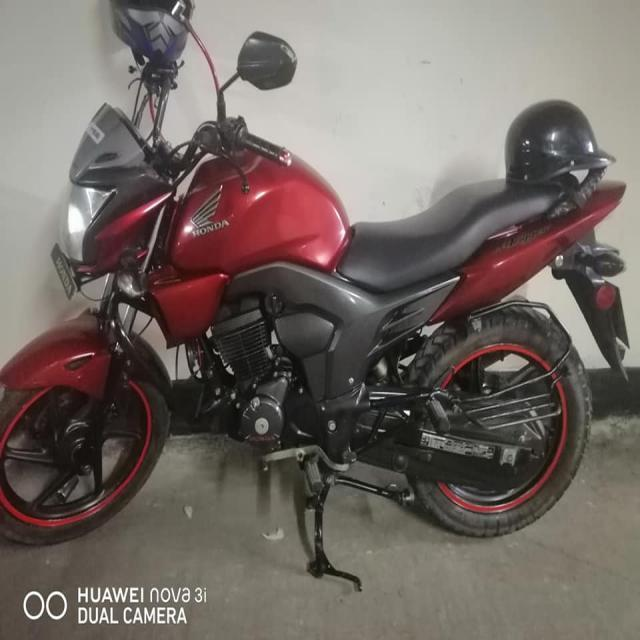Motorbike: (1, 1, 640, 613)
